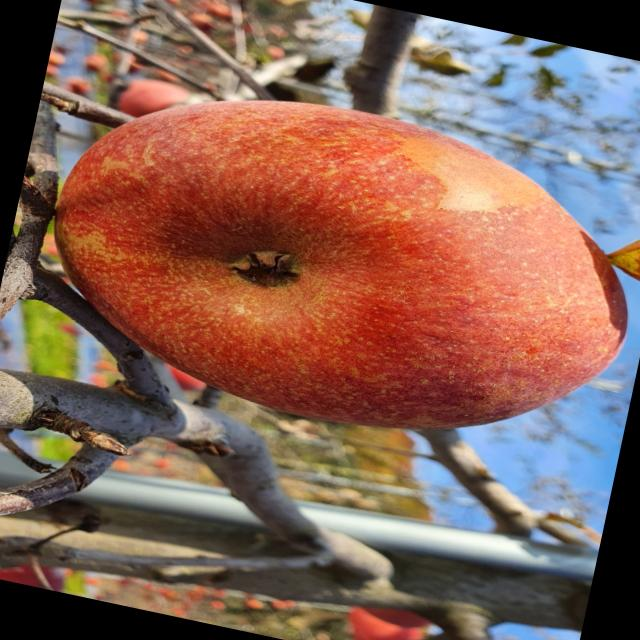fresh: (1, 42, 640, 488)
